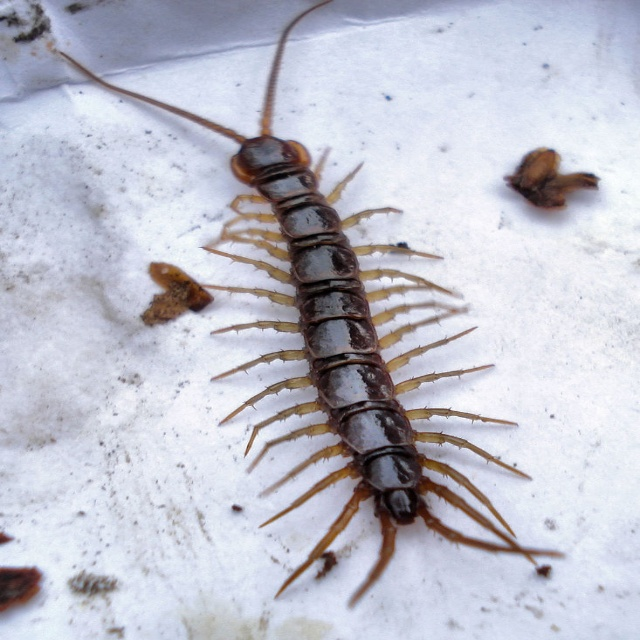Centipede: (44, 0, 561, 606)
